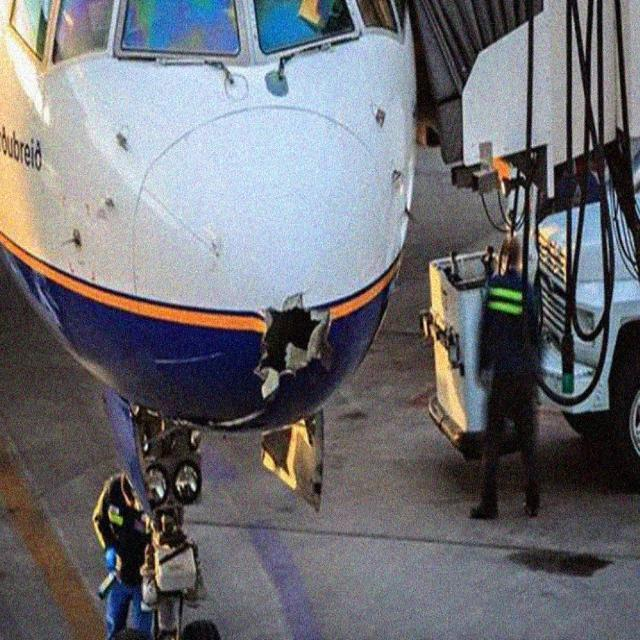crack: (249, 293, 335, 400)
